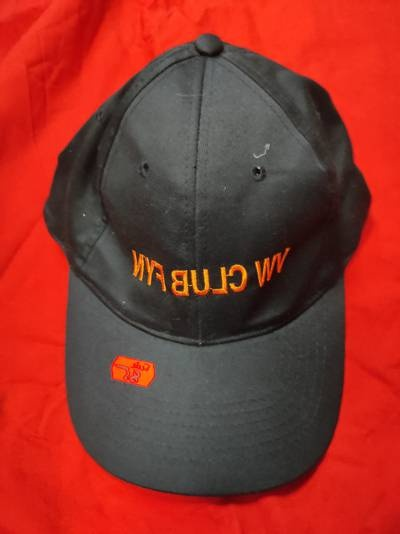Hat: (33, 18, 391, 508)
